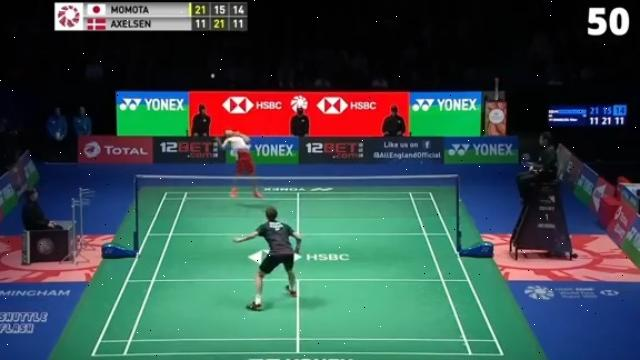Shuttlecock: (209, 73, 217, 79)
